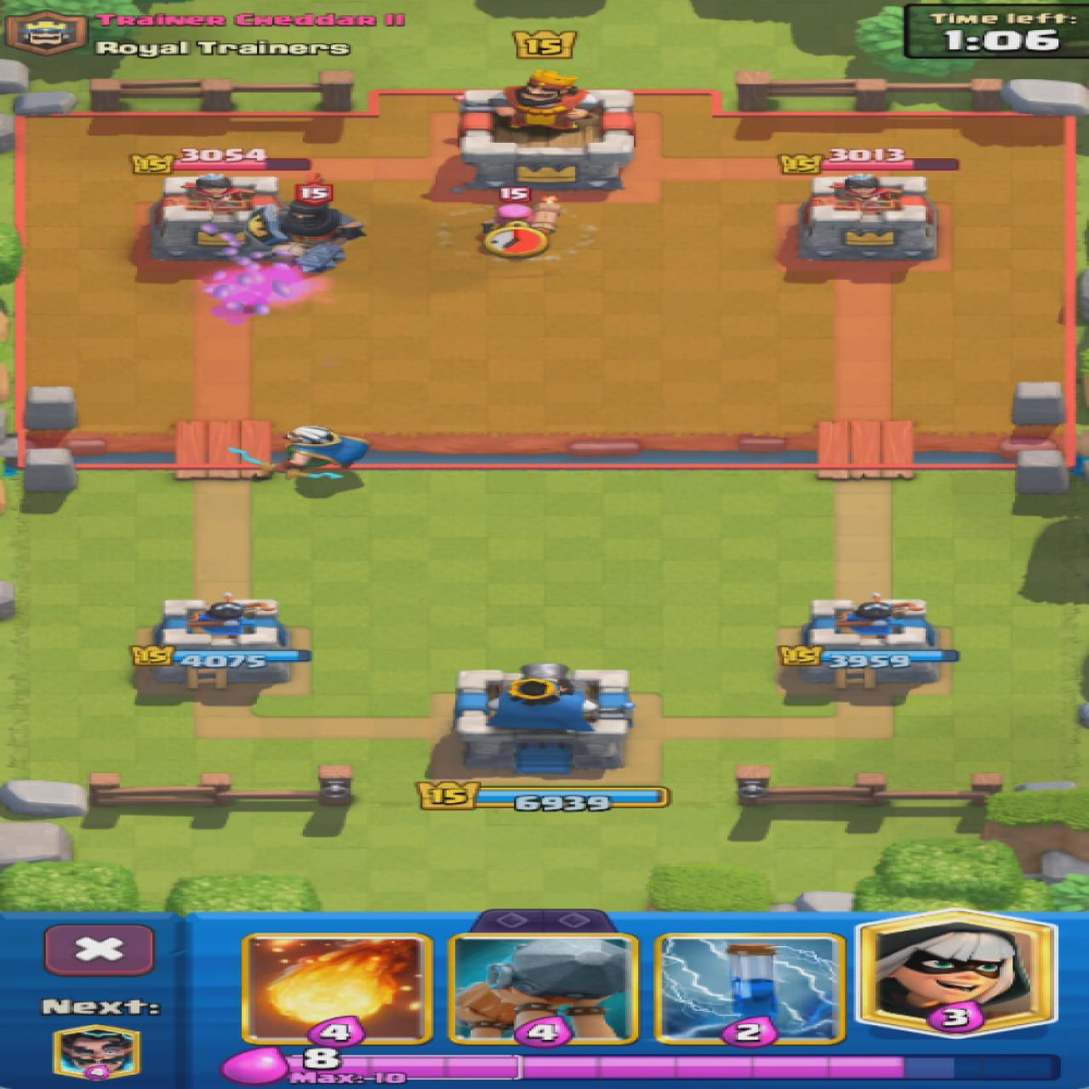Enemy-DarkPrince-Shield: (248, 201, 364, 270)
Enemy-DarkPrince-Shield-Charge: (799, 173, 937, 258), (150, 172, 281, 259)
Enemy-Firecracker: (484, 196, 560, 232)
Enemy-KingTower: (460, 70, 632, 188)
